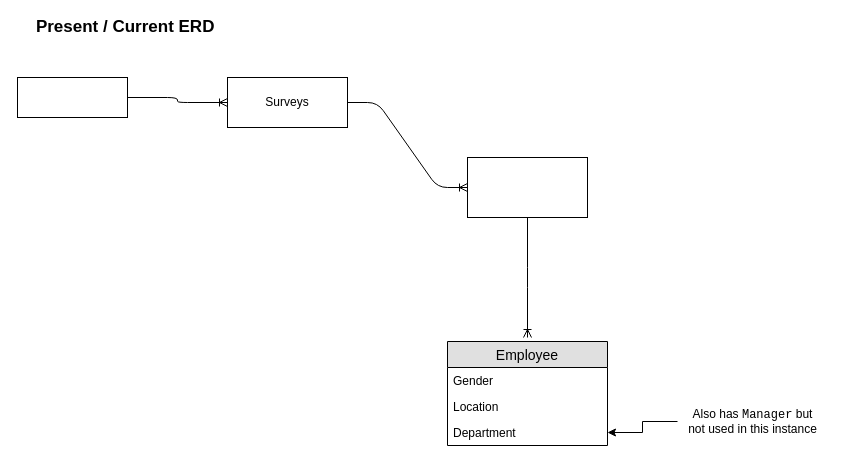
This 845x465 diagram has some shape labels left out. The shapes that lost their labels are listed below. From the top down, each one's centre as x and y in pixels, then its label:
point 72,97: Application
point 527,187: Drivers
